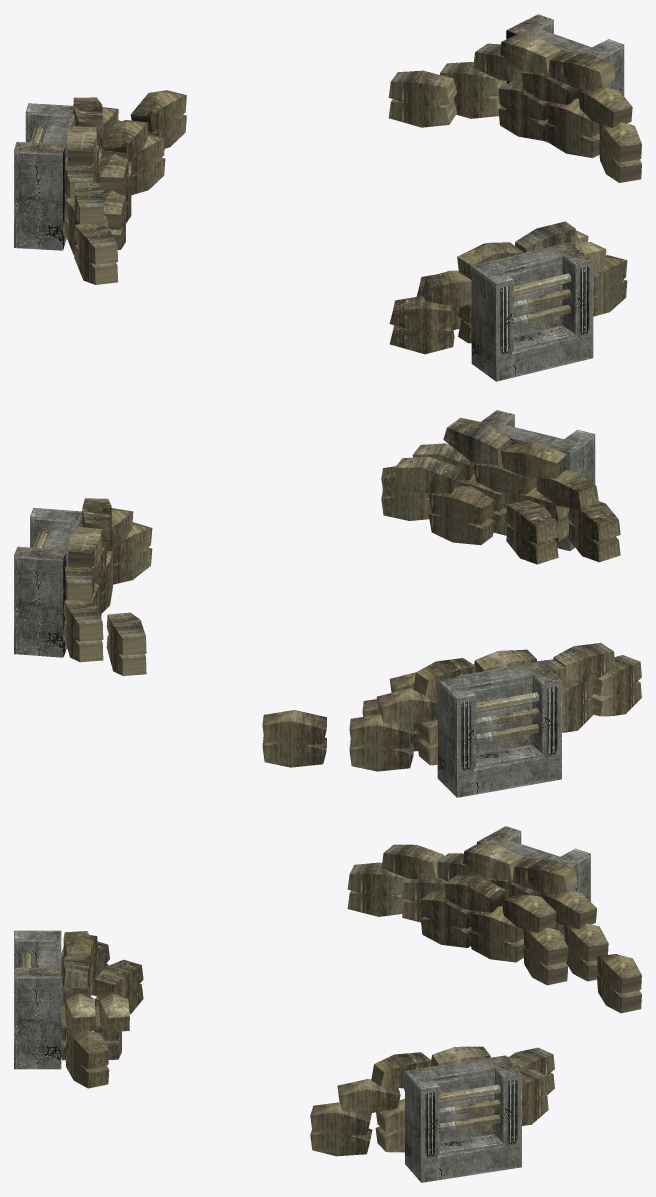
File: eaw_emplacement.glb
3 renders of one model, top to bottom at view 1: azimuth 30°, elevation 25°; view 2: azimuth 150°, elevation 25°; view 3: azimuth 270°, elevation 25°, orthographic. The views are drawn at different scales.
Visible parts, largest first — view 1: Emplacement_0; view 2: Emplacement_0; view 3: Emplacement_0.
Boxes of the visible parts, left/top/right/bottom form: Emplacement_0: left=14, top=14, right=641, bottom=381; Emplacement_0: left=14, top=410, right=641, bottom=797; Emplacement_0: left=14, top=826, right=641, bottom=1182.
Size of the model in its own units: 39.53 by 7.21 by 39.79.
Materials: 1 (1 with a texture image).
